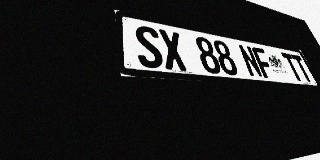8: (194, 36, 223, 74), (211, 39, 239, 76)
F: (251, 47, 277, 79)
N: (237, 44, 264, 78)
S: (133, 24, 165, 69)
T: (281, 52, 304, 81), (291, 54, 314, 82)
X: (158, 29, 188, 71)
